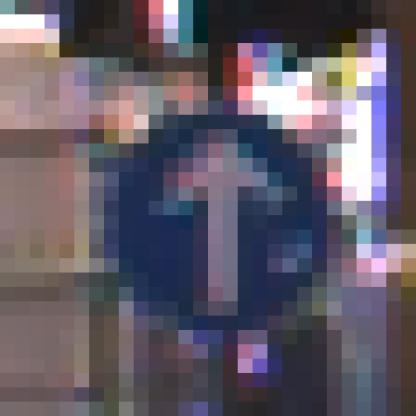AheadOnly: (75, 87, 343, 345)
